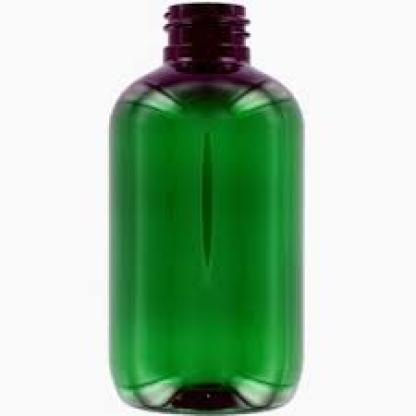trash: (110, 3, 302, 411)
